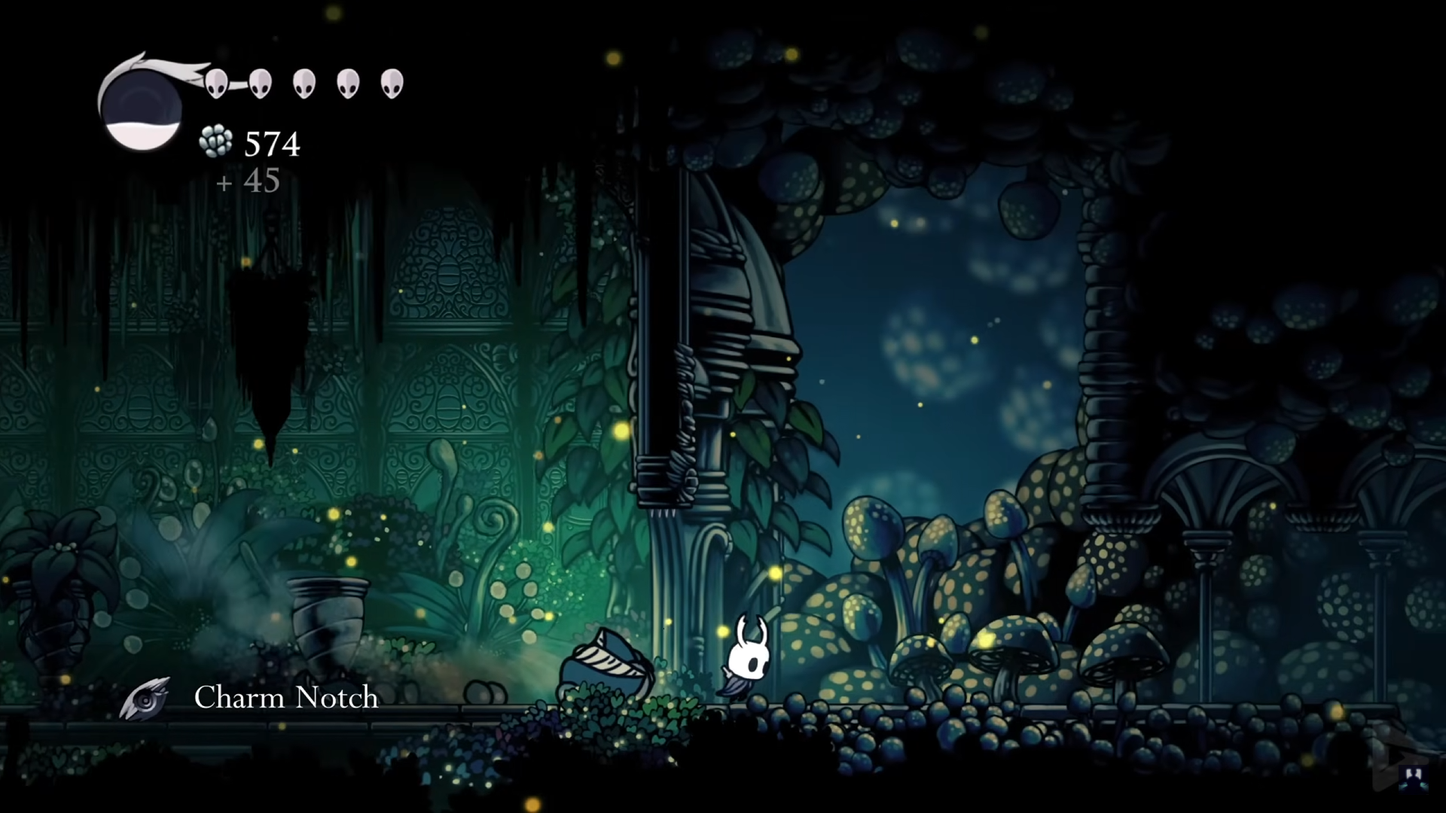HK: (715, 609, 776, 706)
